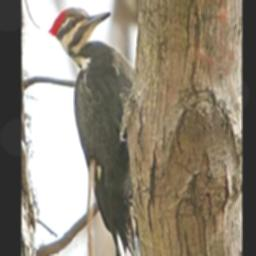Woodpecker: (47, 5, 146, 256)
